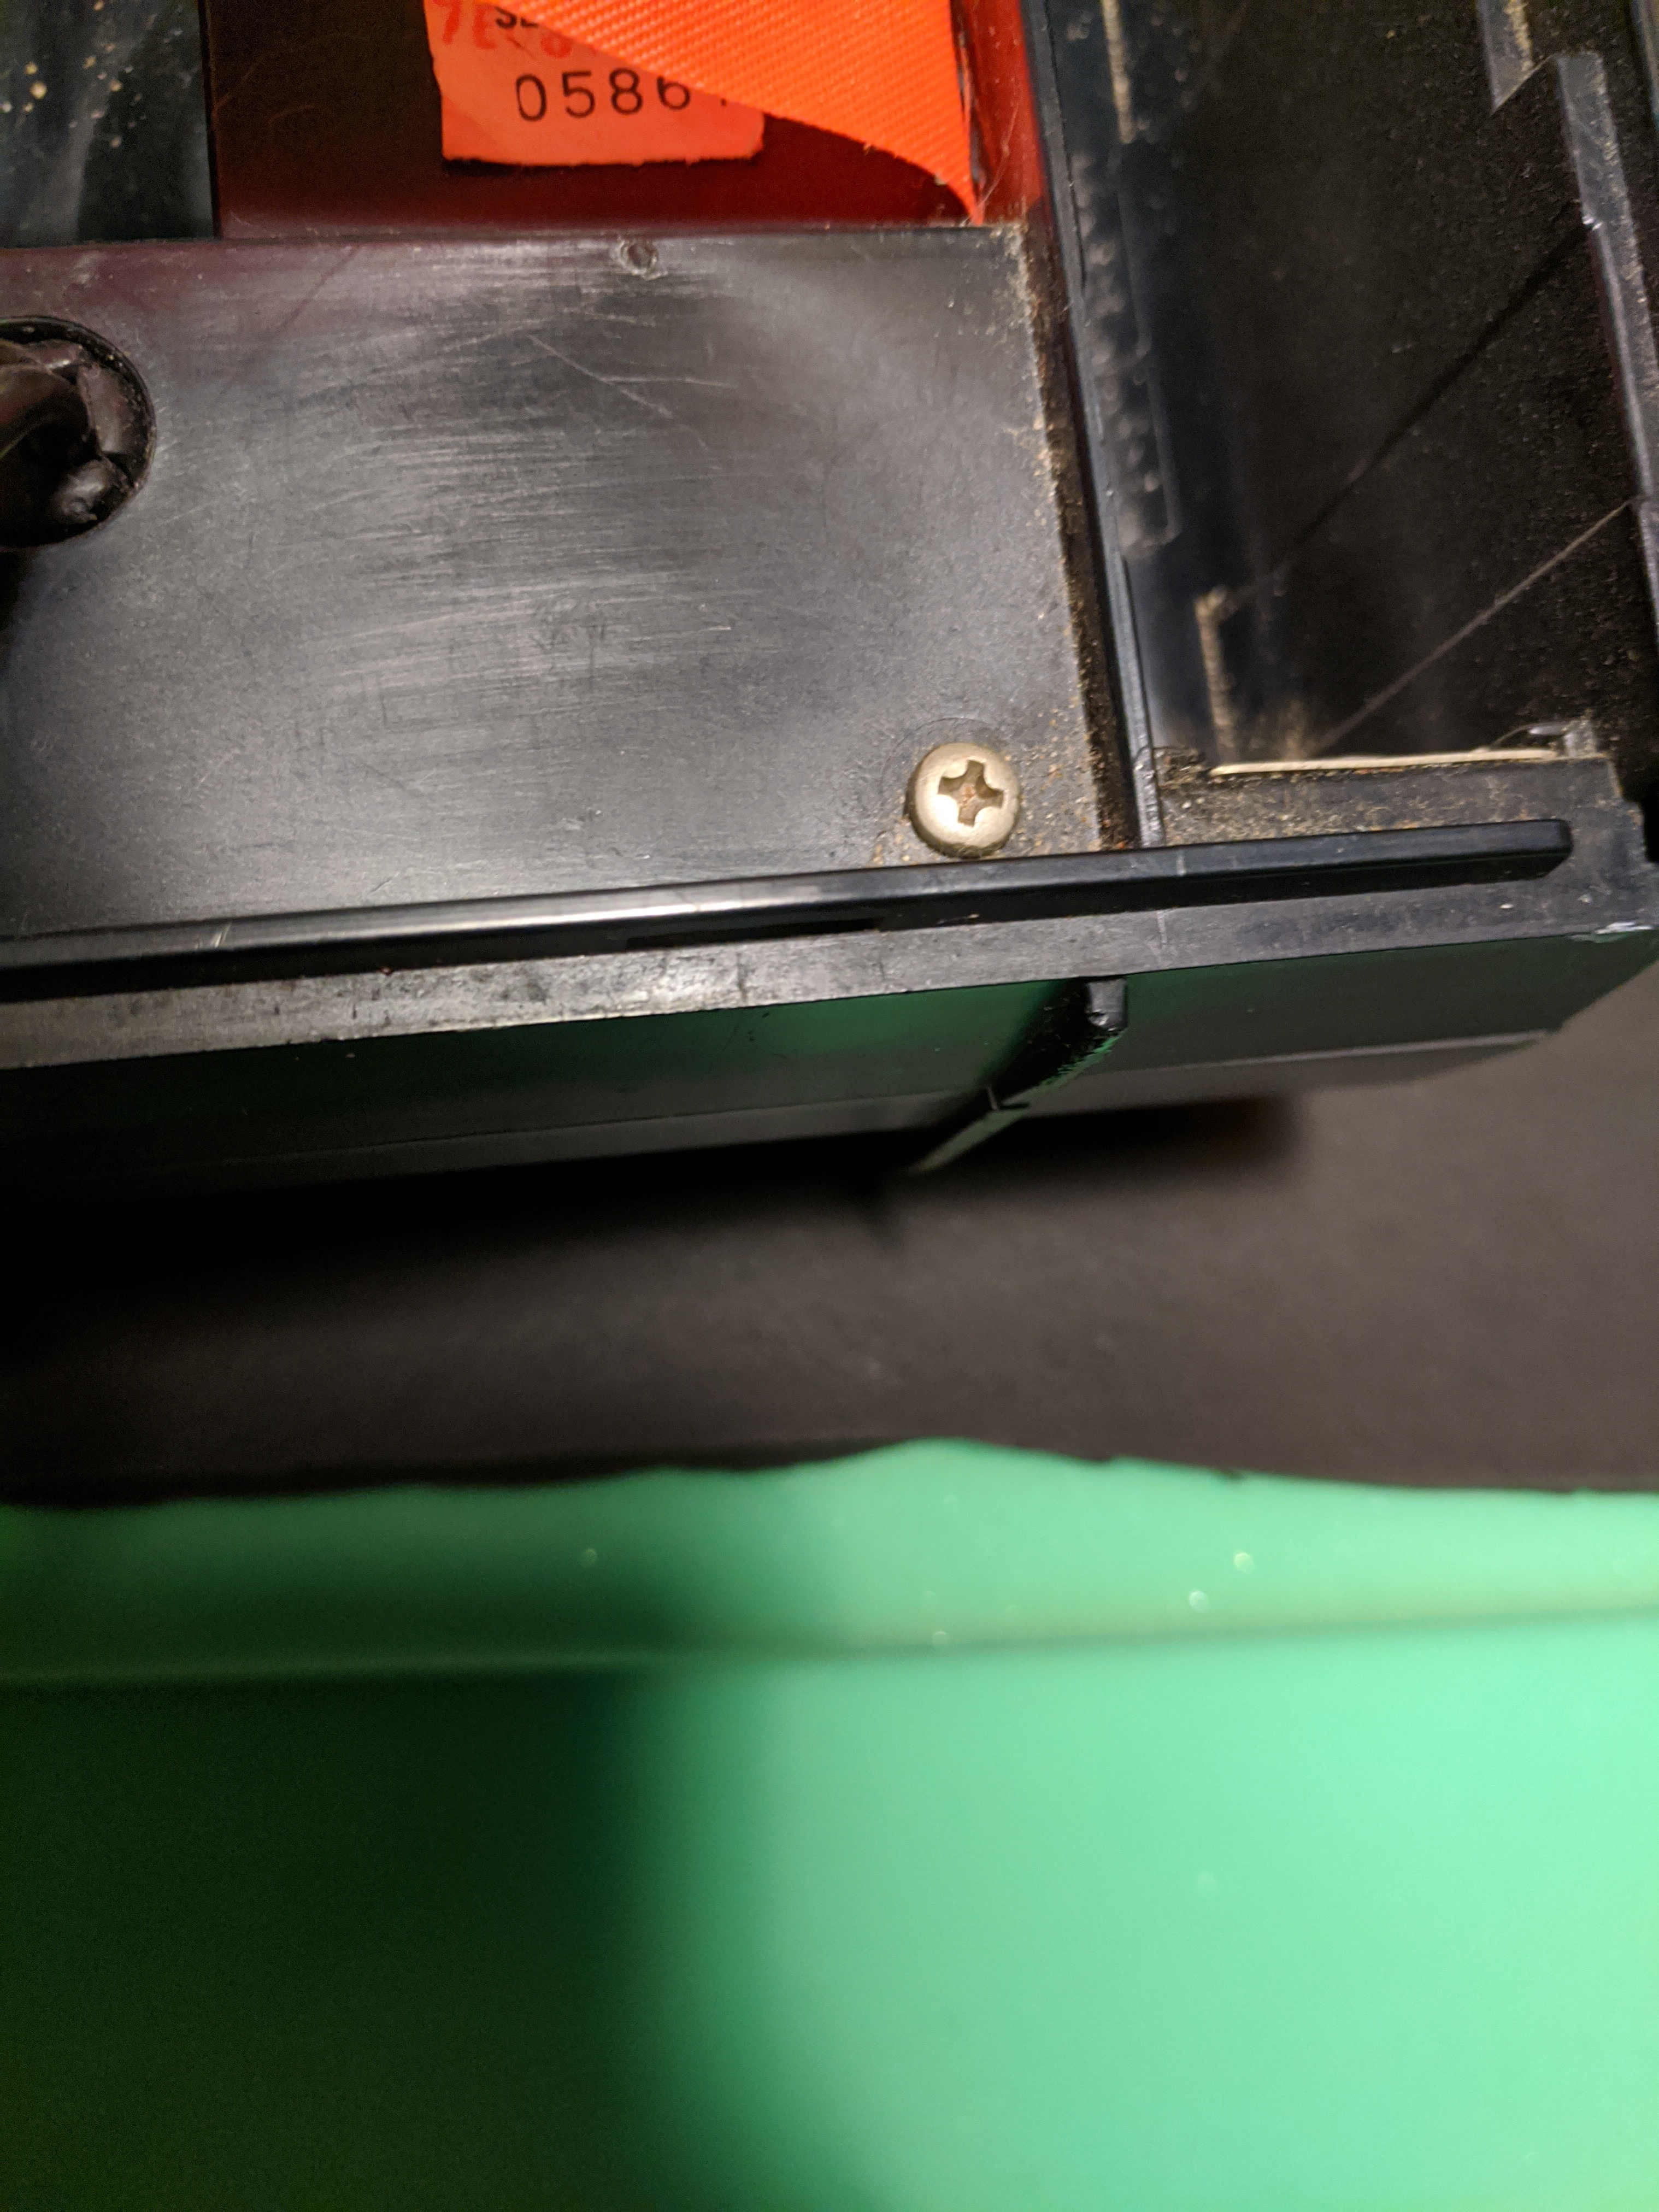cross_recessed_screw: (904, 733, 1019, 840)
